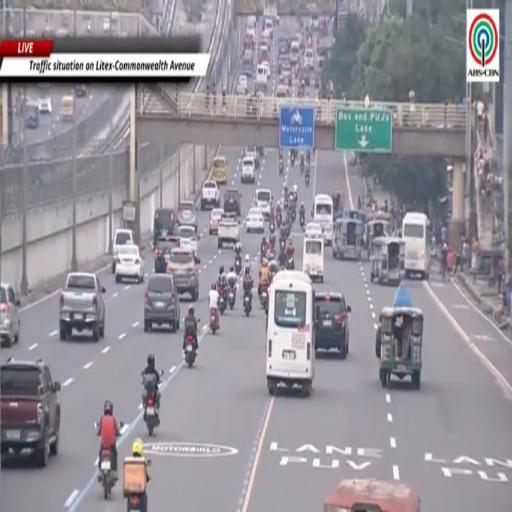bus: (266, 270, 314, 395), (402, 213, 430, 279), (313, 195, 333, 245)
car: (0, 359, 61, 467), (315, 292, 351, 359), (144, 274, 180, 331), (167, 248, 200, 301), (0, 283, 20, 346), (116, 246, 144, 282), (112, 229, 134, 274), (155, 236, 179, 273), (153, 208, 176, 246), (218, 215, 239, 248), (179, 227, 198, 257), (177, 201, 196, 227), (224, 188, 241, 216), (246, 207, 264, 233), (256, 189, 272, 218), (241, 156, 255, 183), (209, 208, 223, 234), (245, 147, 260, 169), (38, 94, 52, 114), (305, 222, 321, 237), (304, 50, 314, 69), (75, 83, 87, 98), (238, 75, 248, 93), (261, 61, 270, 77), (236, 84, 247, 95), (103, 16, 110, 33)
jeepney: (376, 285, 423, 389), (324, 478, 420, 511), (370, 237, 405, 285), (333, 217, 365, 260), (366, 212, 391, 250), (344, 210, 367, 225)
motorcycle: (141, 373, 160, 437), (99, 448, 117, 500), (184, 319, 200, 368), (126, 491, 147, 511), (218, 288, 226, 314), (243, 291, 251, 316), (210, 309, 218, 333), (228, 287, 236, 309), (260, 285, 267, 308), (235, 255, 241, 275), (286, 255, 294, 269), (289, 191, 296, 206), (269, 219, 275, 233), (291, 208, 296, 223), (280, 236, 285, 251), (276, 213, 281, 227), (300, 216, 305, 230), (284, 195, 288, 209), (279, 160, 283, 174), (291, 153, 295, 166), (305, 173, 309, 185), (300, 162, 304, 173), (306, 154, 310, 165)
truck: (60, 272, 105, 341), (303, 237, 324, 282), (201, 181, 220, 210)
